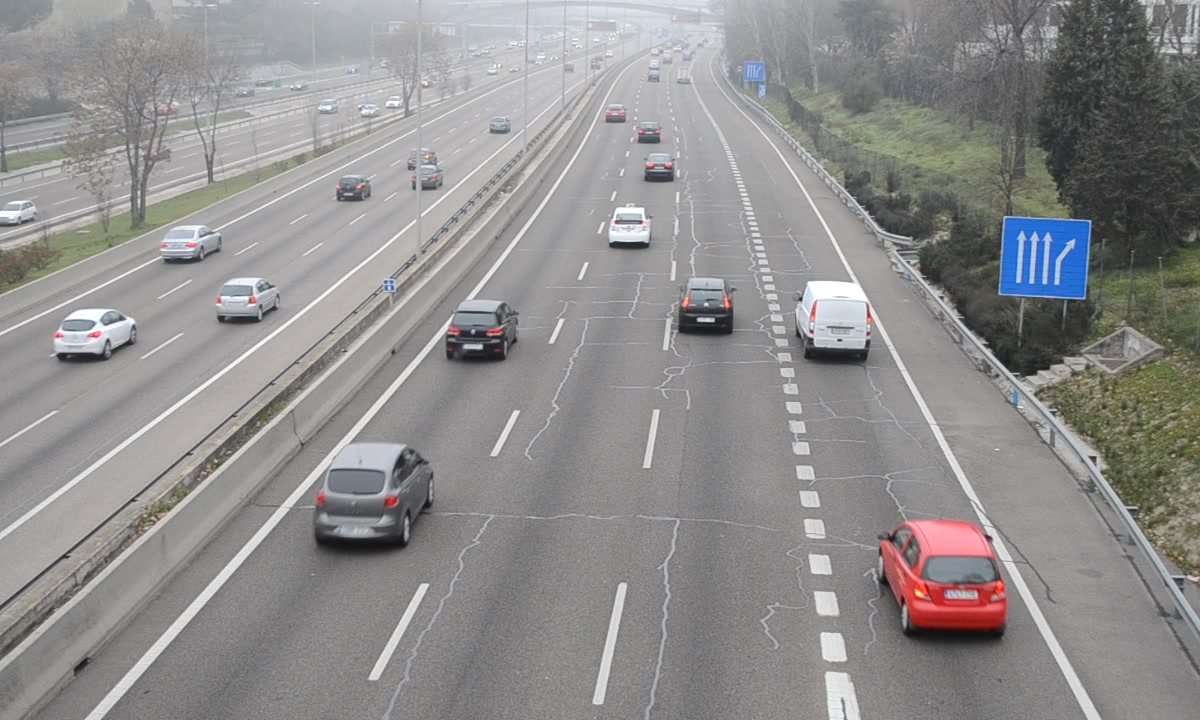car: (881, 519, 1010, 633), (315, 443, 434, 543), (445, 299, 517, 361), (678, 276, 735, 334), (609, 206, 653, 248), (643, 151, 676, 182), (637, 120, 660, 143)
van: (797, 280, 872, 356)
